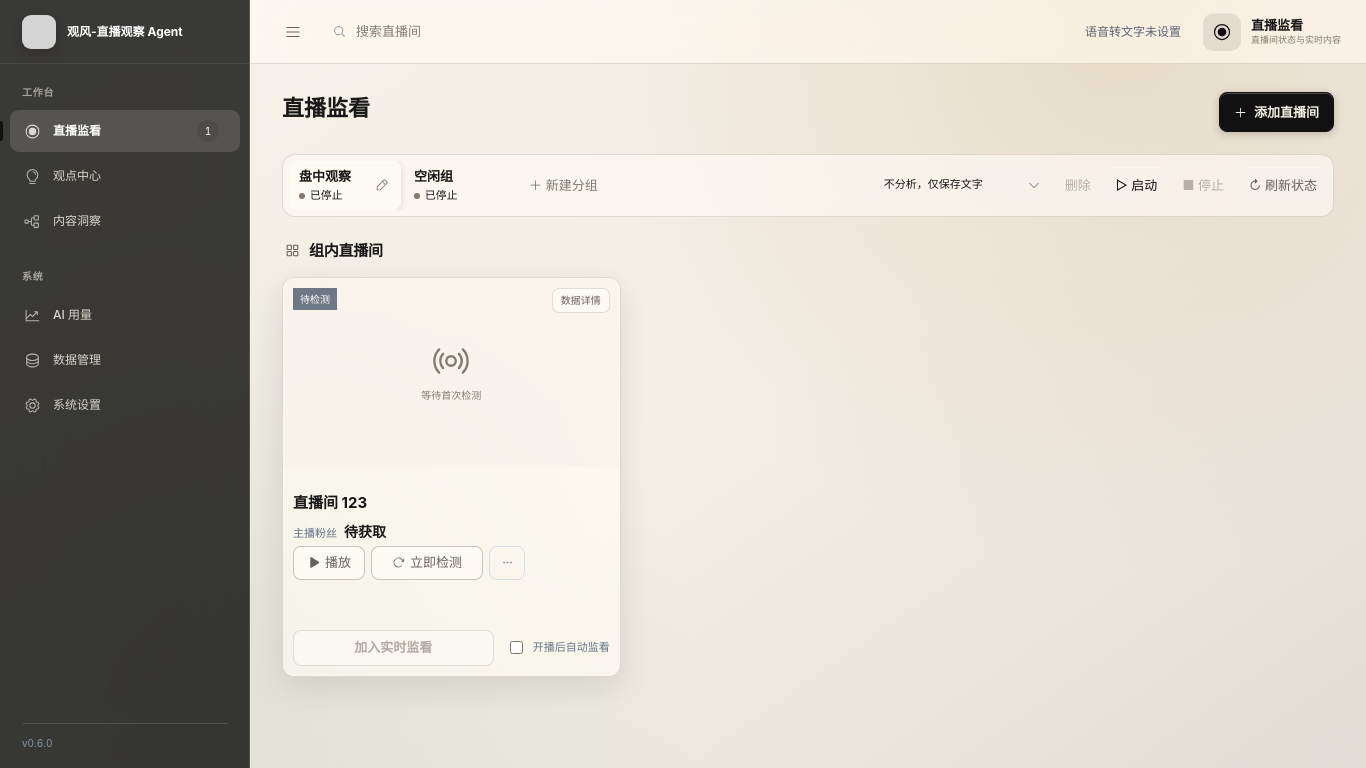
Scenario: room form › does not redirect adding away from a full current group
expect the tab "盘中观察 已停止" is shown: met, box [289,161,368,210]
Click the button "添加直播间".
click(1276, 112)  # box [1219,92,1334,132]
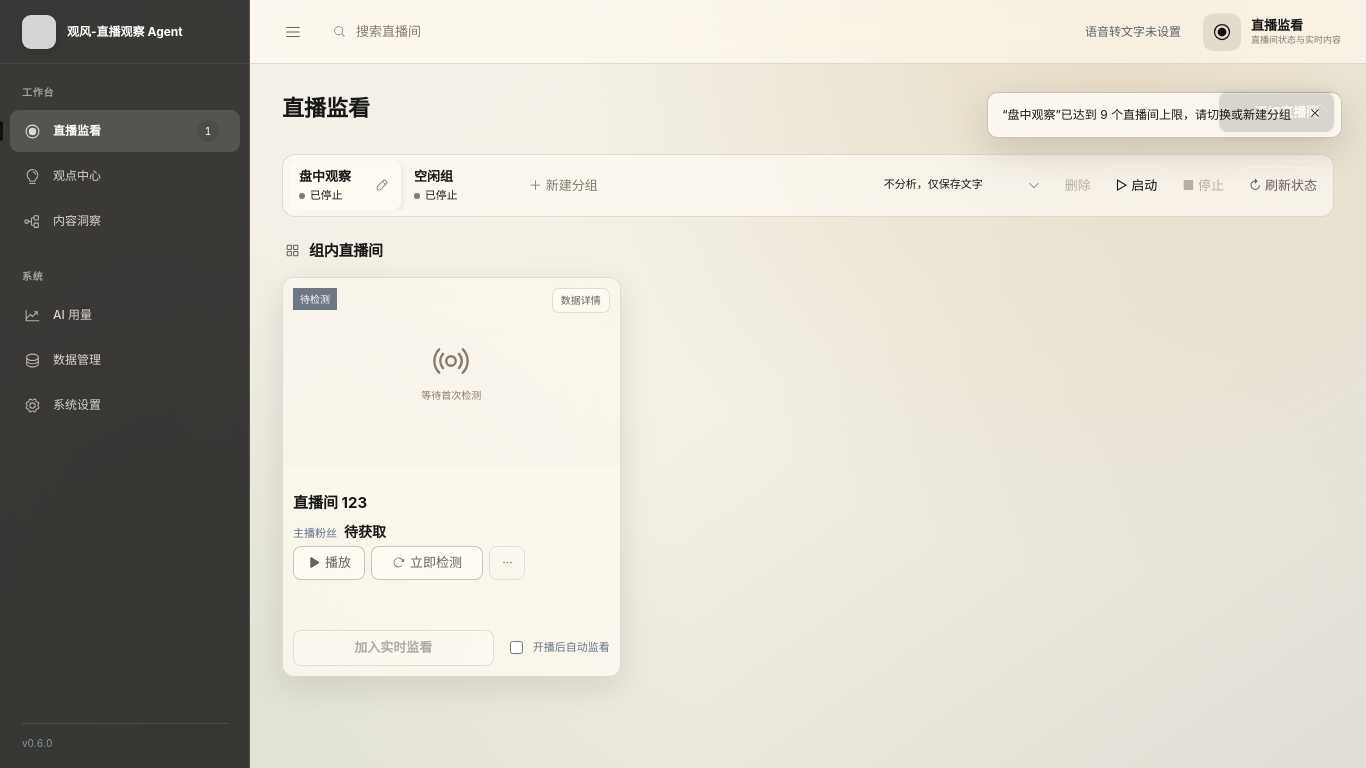
expect the text "“盘中观察”已达到 9 个直播间上限，请切换或新建分组" is shown: met, box [987,92,1342,138]
